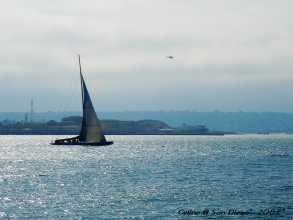fanchuan: (47, 59, 106, 146)
